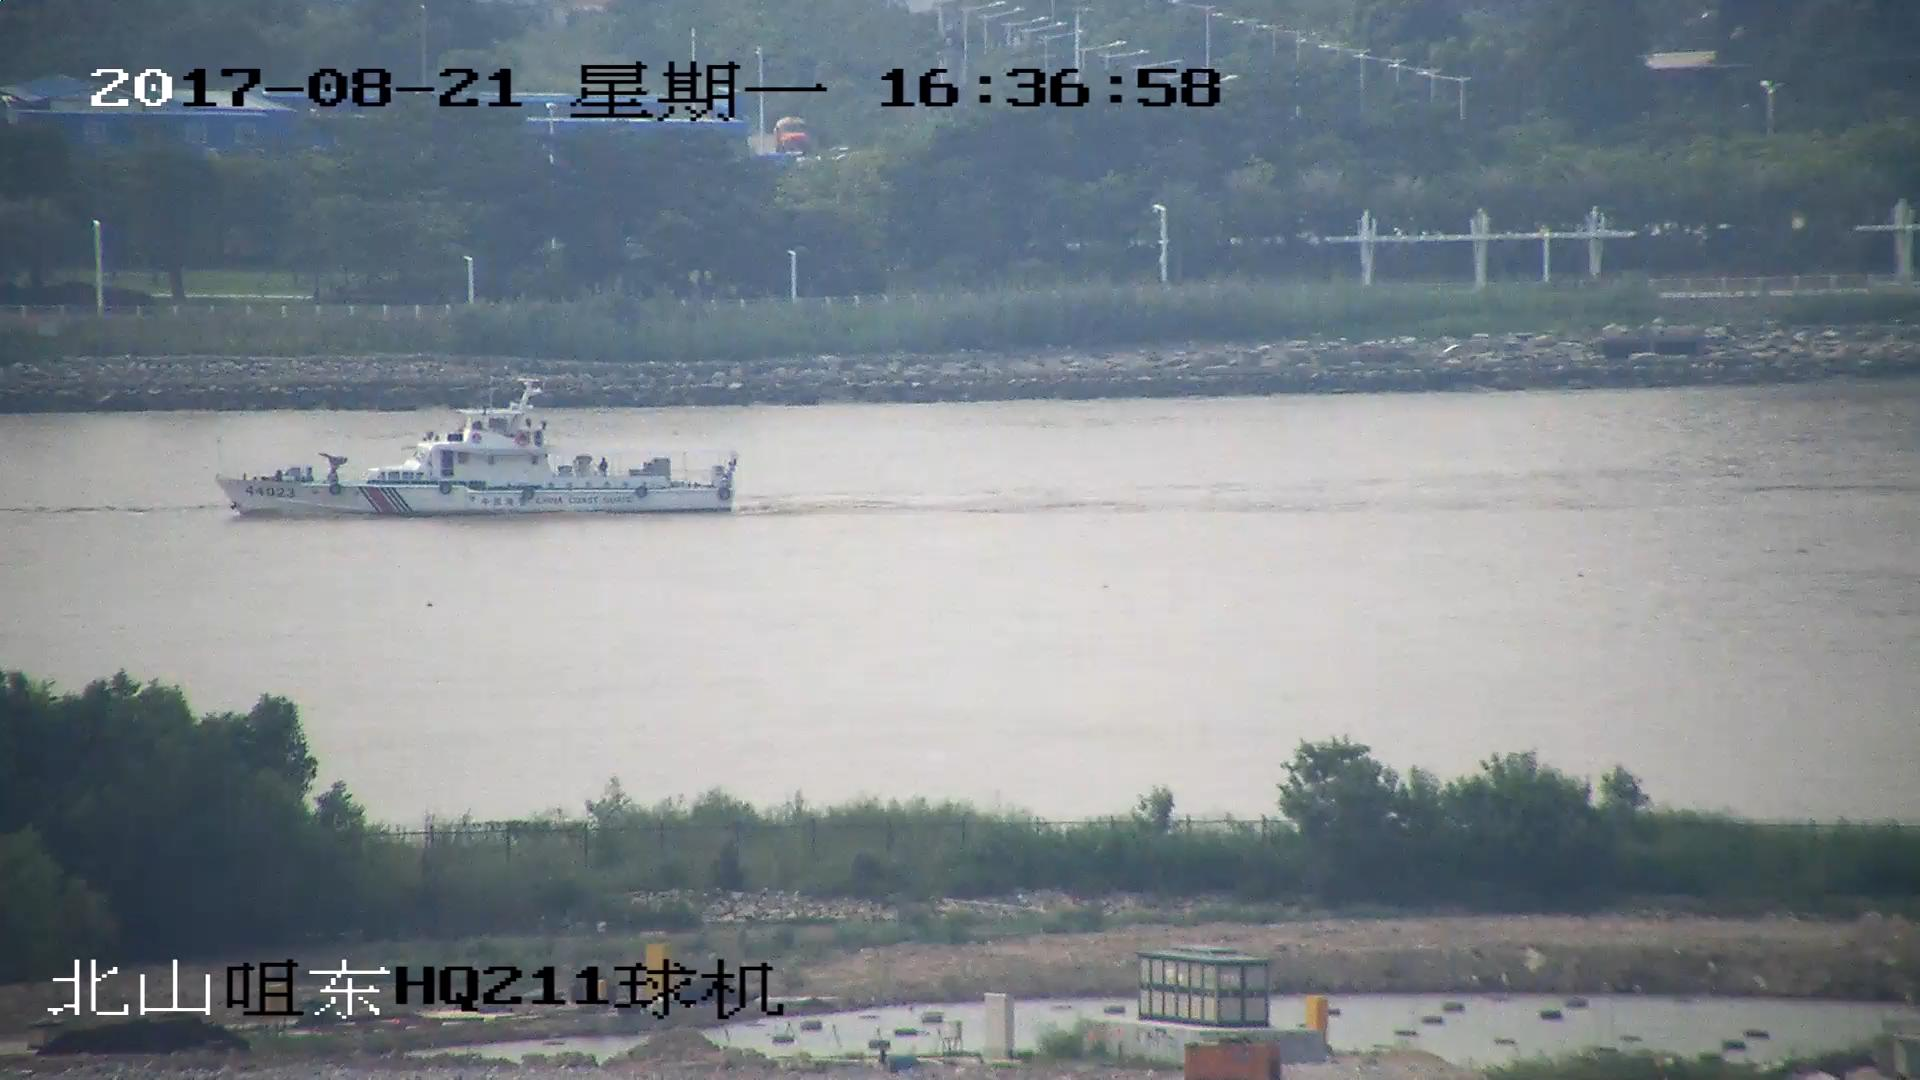passenger ship: (212, 381, 738, 519)
